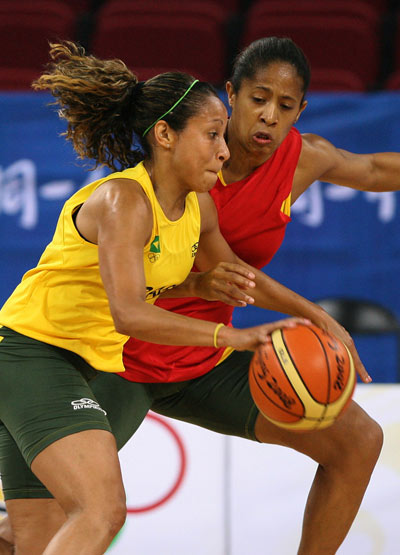basketball: (248, 324, 357, 431)
